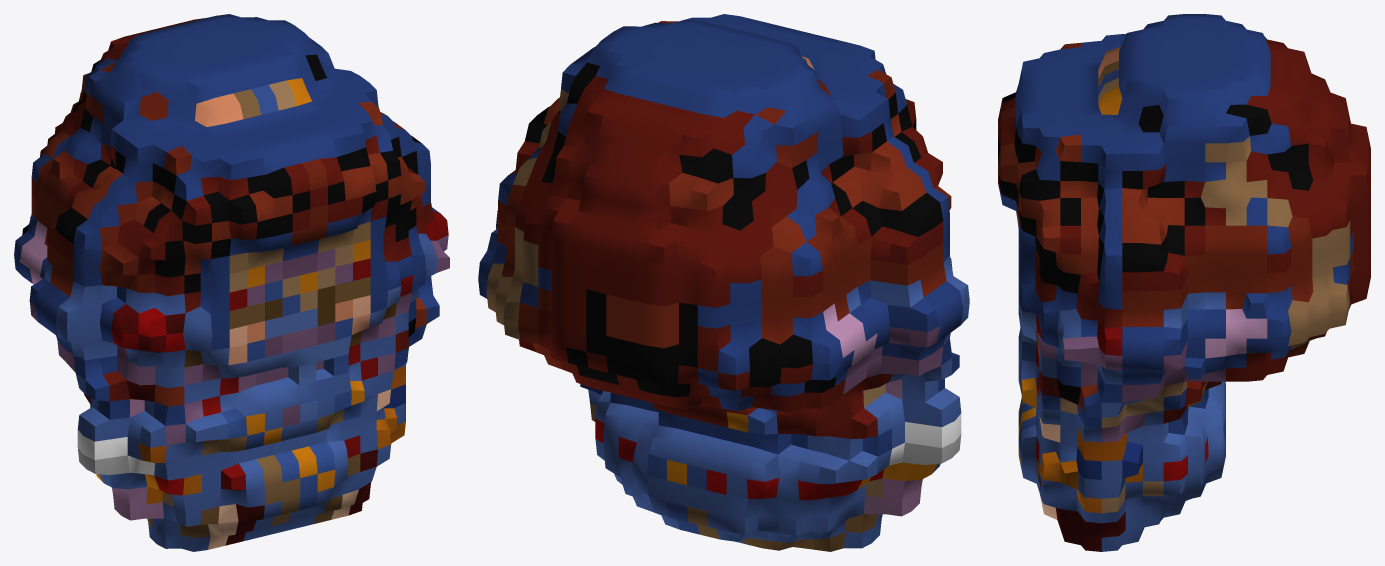
File: Icon_002_01.obj
3 renders of one model, left to right at view 1: azimuth 30°, elevation 25°; view 2: azimuth 150°, elevation 25°; view 3: azimuth 270°, elevation 25°, orthographic. The views are drawn at different scales.
Size of the model in its own units: 2.2 by 2.4 by 1.8.
